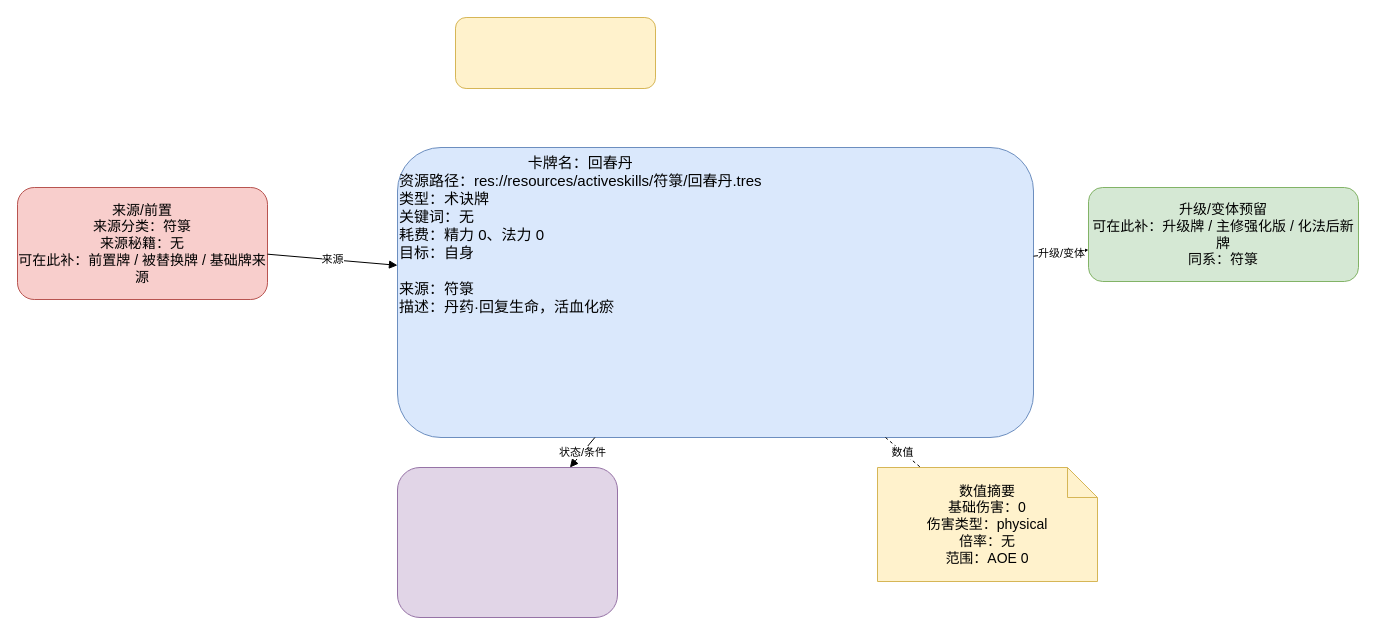
Some shapes in this 1376 by 635 pixel diagram are drawn without their labels. The centre of each missing label's shape, as x and y in pixels:
"回春丹 卡牌词典自动初稿" belongs at (x=555, y=52).
"状态/关键词/条件 关键词：无 状态：无 功法条件：NONE 流转：无 乘势：无 应对：无" belongs at (x=507, y=542).
